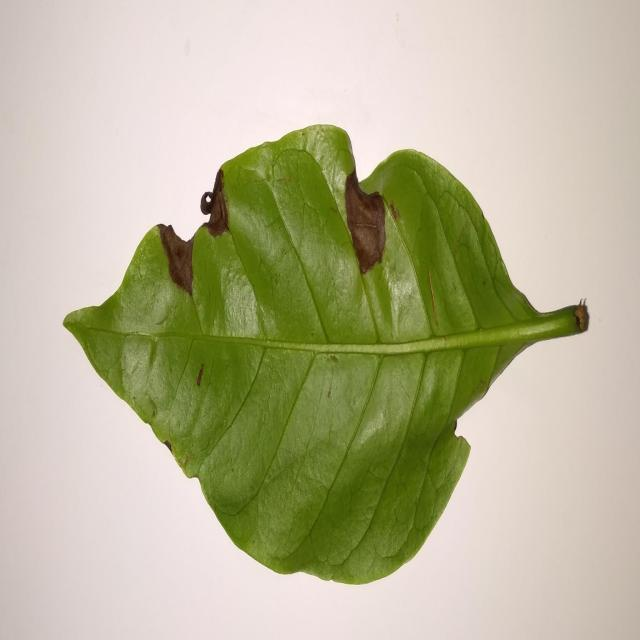Enfermedad-Antracnosis: (62, 125, 589, 588)
